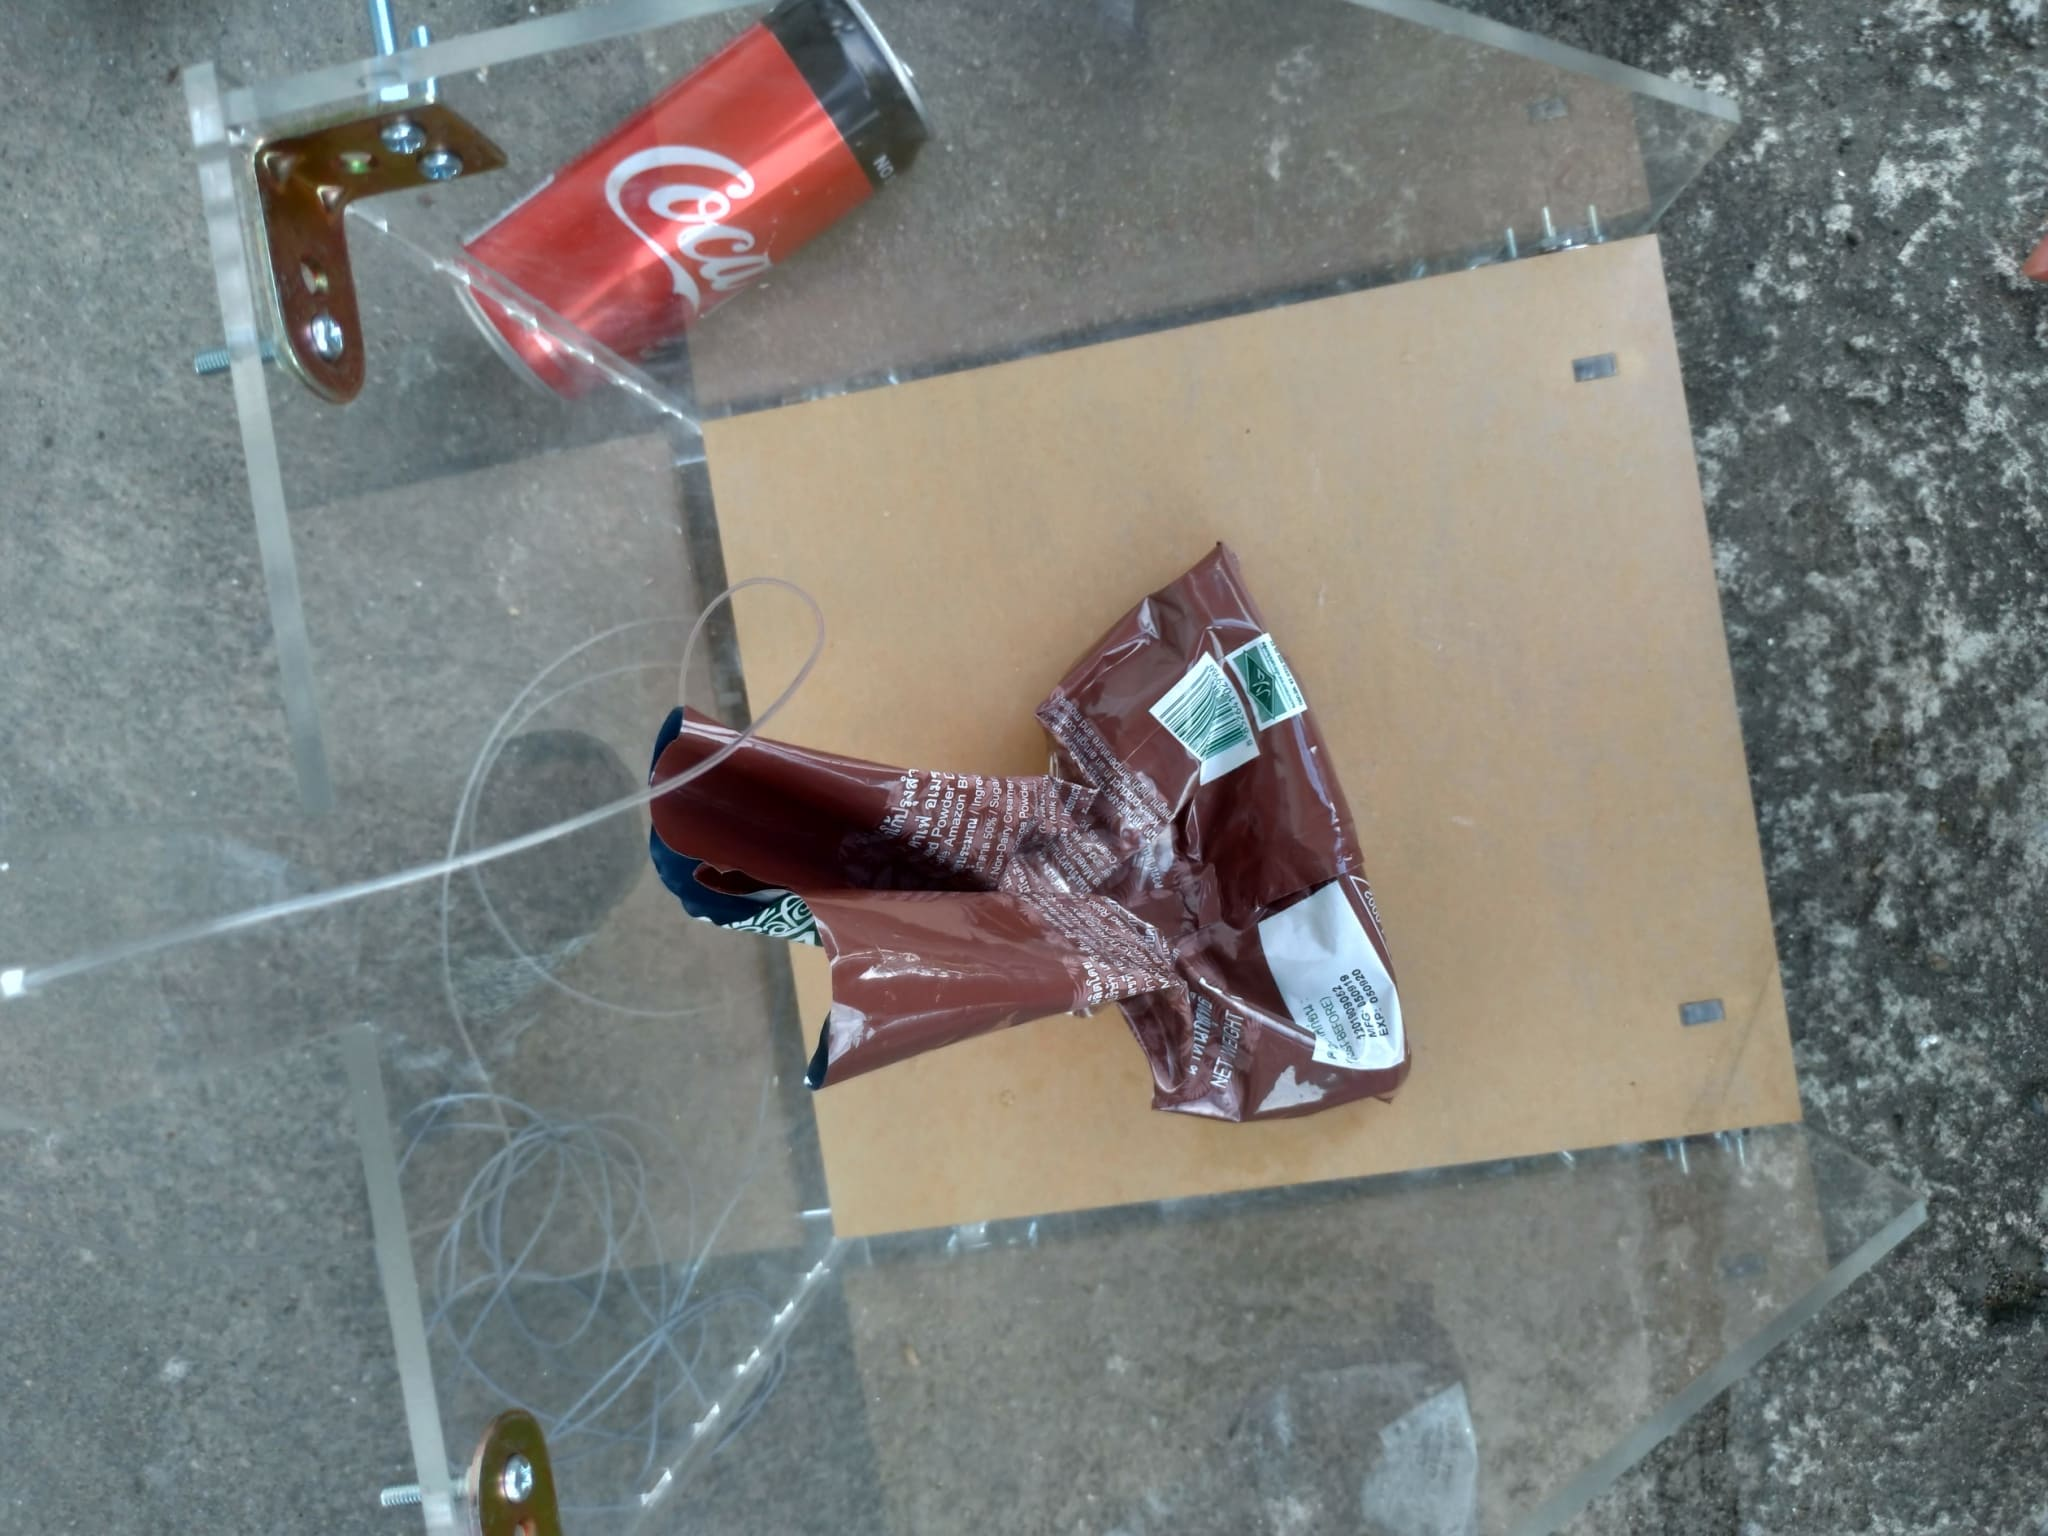AlCan: (448, 15, 921, 394)
Others: (653, 547, 1406, 1128)
